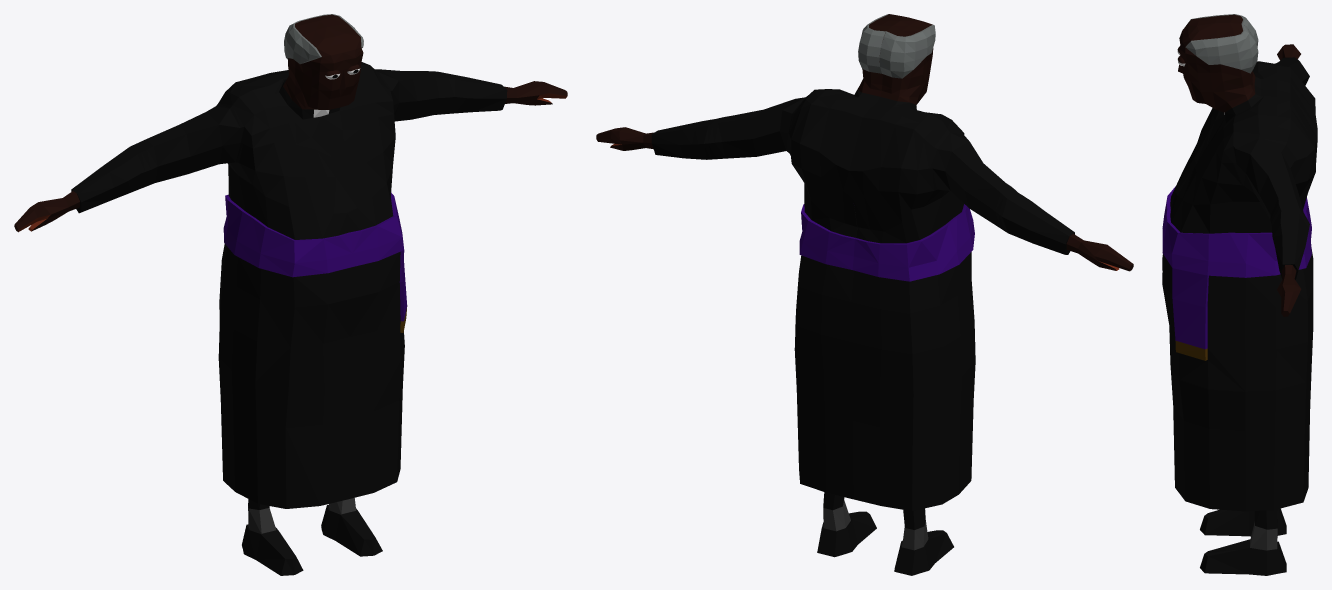
Rendered from padre.fbx.
The picture shows the model from 3 angles, left to right: view 1: azimuth 30°, elevation 25°; view 2: azimuth 150°, elevation 25°; view 3: azimuth 270°, elevation 25°; orthographic projection. The views are drawn at different scales.
Visible parts, largest first — view 1: Padre001; view 2: Padre001; view 3: Padre001.
Boxes of the visible parts, box(x1,y1,x2,y2) form: Padre001: box(14, 14, 567, 575); Padre001: box(596, 14, 1133, 575); Padre001: box(1162, 14, 1317, 575).
Bounding box in the file's own units: 1.55 × 0.3833 × 1.43.
